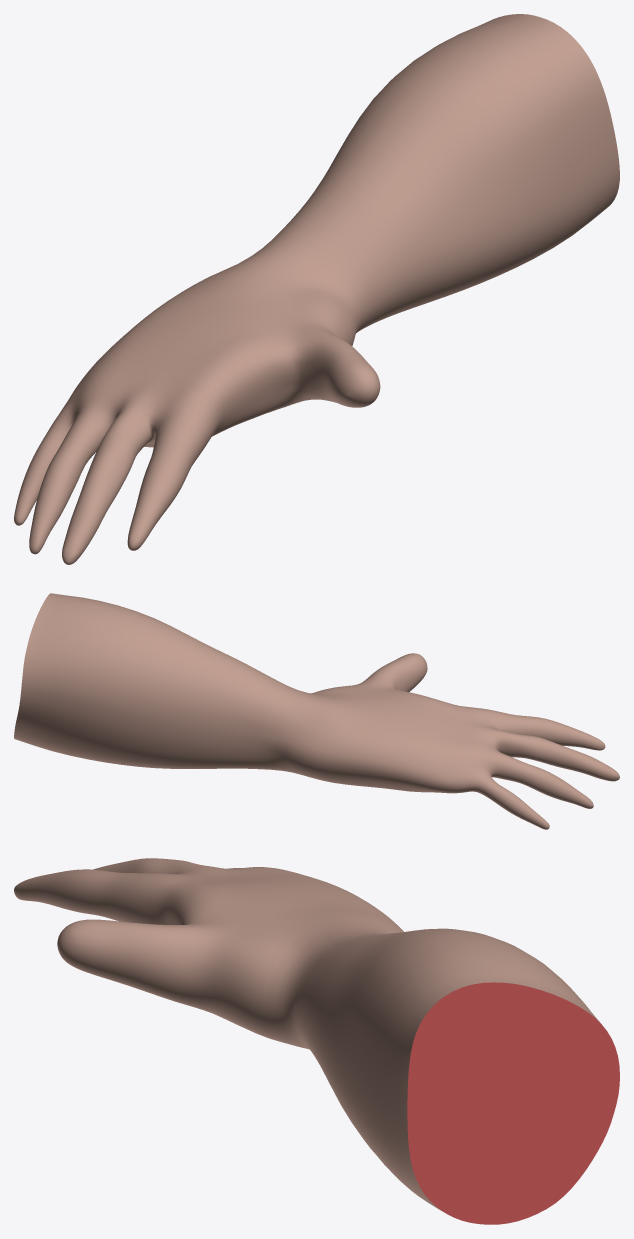
3 renders of one model, top to bottom at view 1: azimuth 30°, elevation 25°; view 2: azimuth 150°, elevation 25°; view 3: azimuth 270°, elevation 25°, orthographic. The views are drawn at different scales.
Parts seen in each view (by area): view 1: polySurface27; view 2: polySurface27; view 3: polySurface27.
Boxes of the visible parts, x1,y1,x2,y2 form: polySurface27: (14,14,619,564); polySurface27: (14,593,619,829); polySurface27: (14,858,619,1224).
Size of the model in its own units: 12.73 by 4.61 by 8.42.
